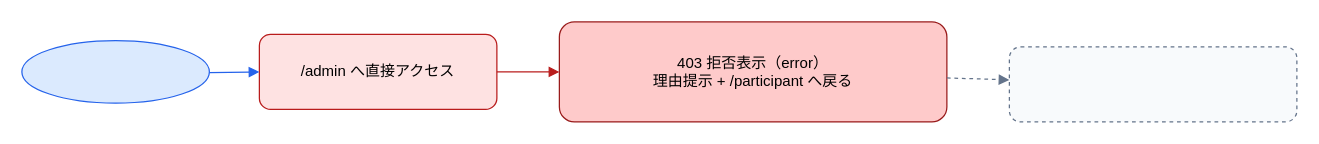
Image size: 1319x144. Some labels were removed from this diagram. Each missing label, with the box of its shape:
参加者ユーザー: (21, 39, 209, 103)
管理画面本文は描画しない: (1008, 46, 1297, 122)
